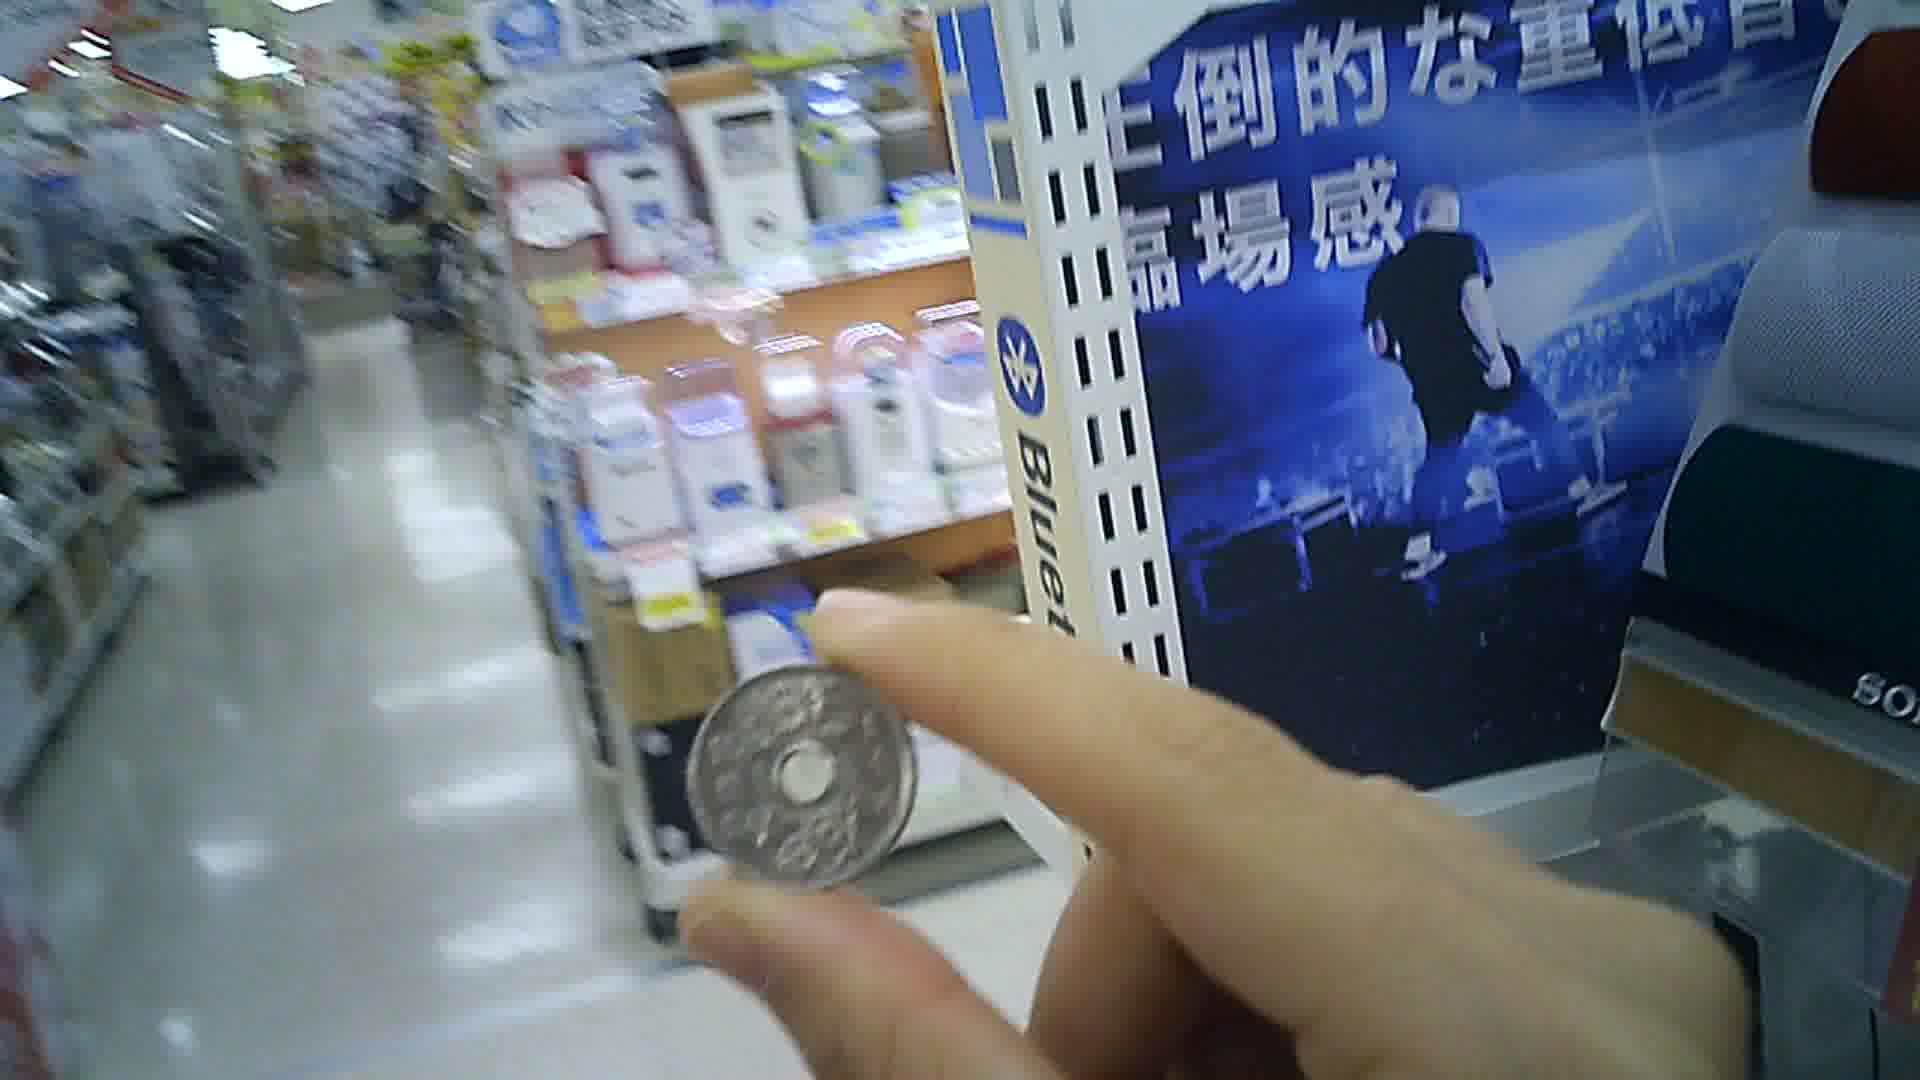50 Yen: (676, 658, 927, 890)
